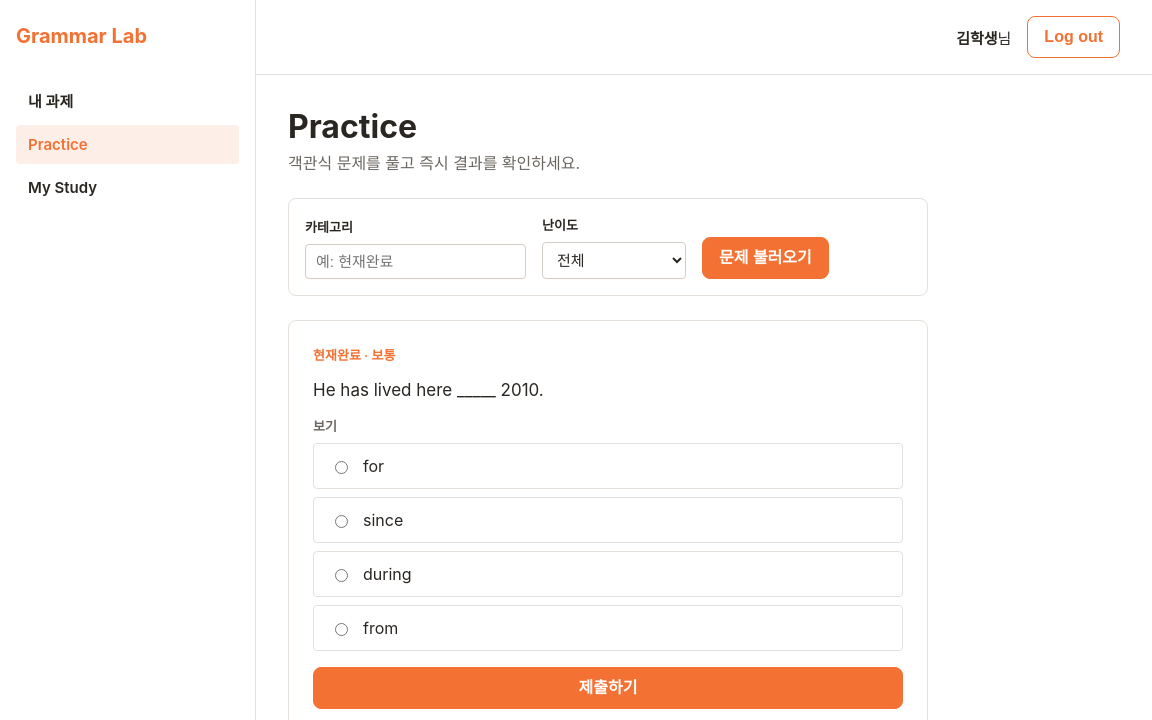
it: StudentPracticePage › submits the selected choice and renders a correct result with the submitted/correct answer and explanation
This screenshot has width=1152, height=720.
Check: the text "He has lived here _____ 2010." is shown, box [313,380,544,400]
Click the radio button labelled "since".
click(342, 522)  # box [335,515,348,528]
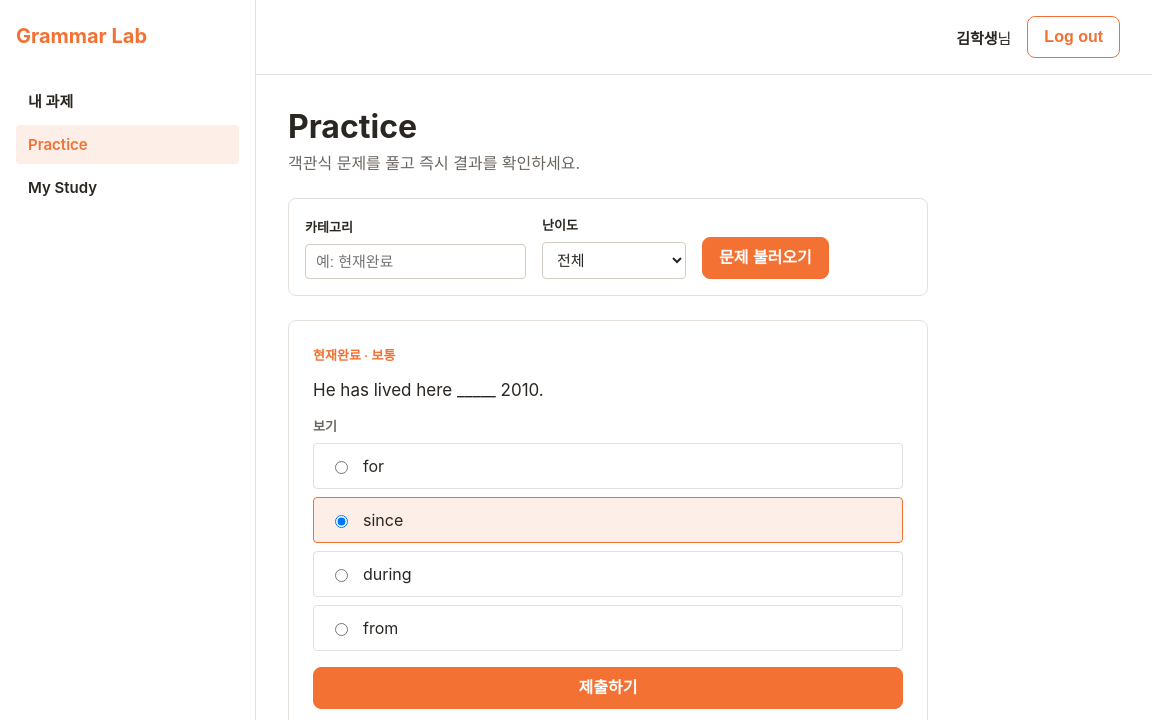
Click the button "제출하기".
click(608, 688)  # box [313,667,903,709]
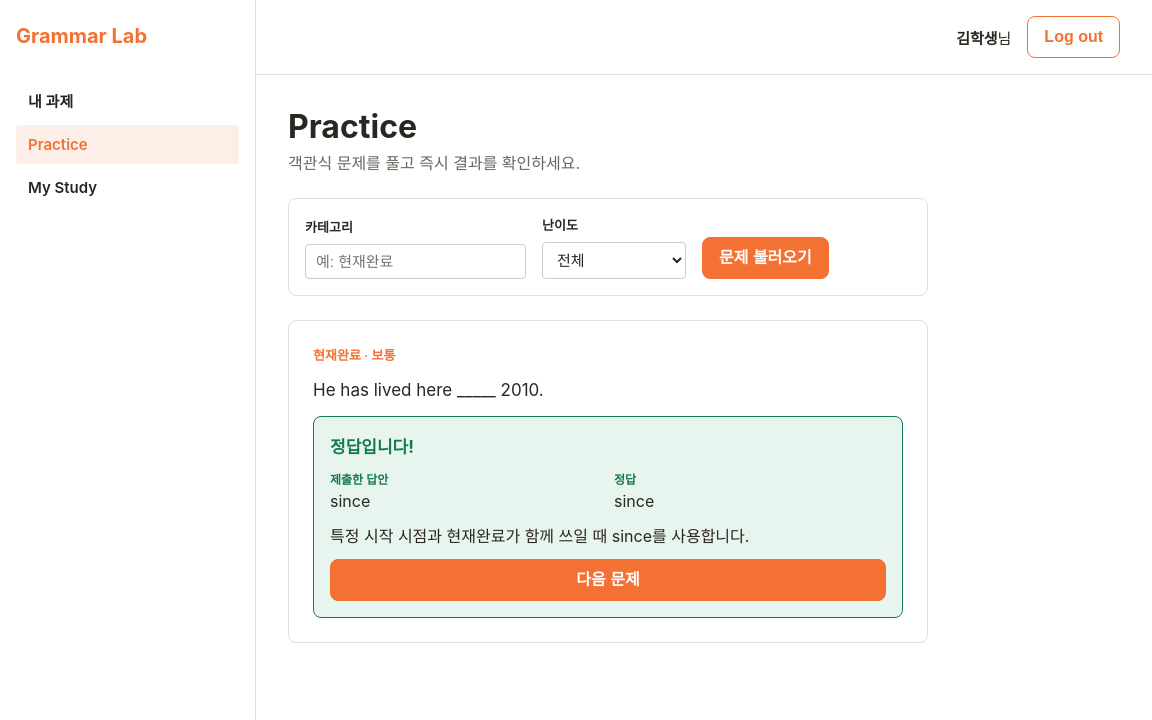
Check: the message shows "정답입니다!", box [330,437,414,457]
Check: the message shows "since", box [330,491,370,511]
Check: the message shows "특정 시작 시점과 현재완료가 함께 쓰일 때 since를 사용합니다.", box [330,526,749,546]
